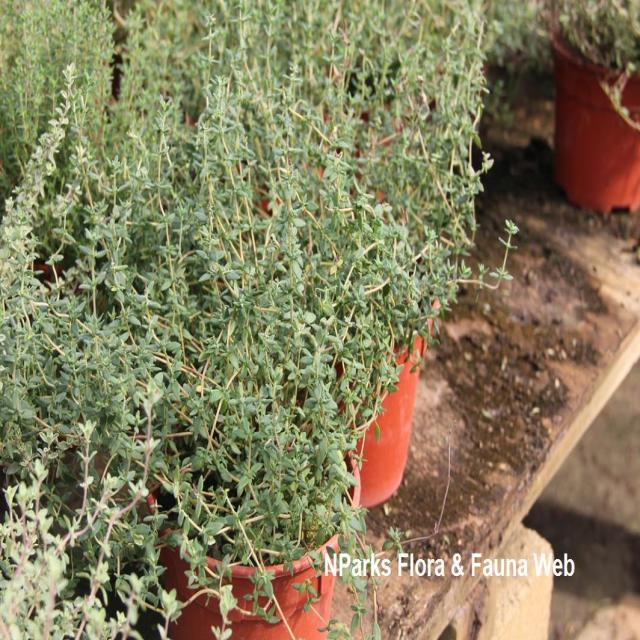Thyme: (9, 6, 513, 545)
